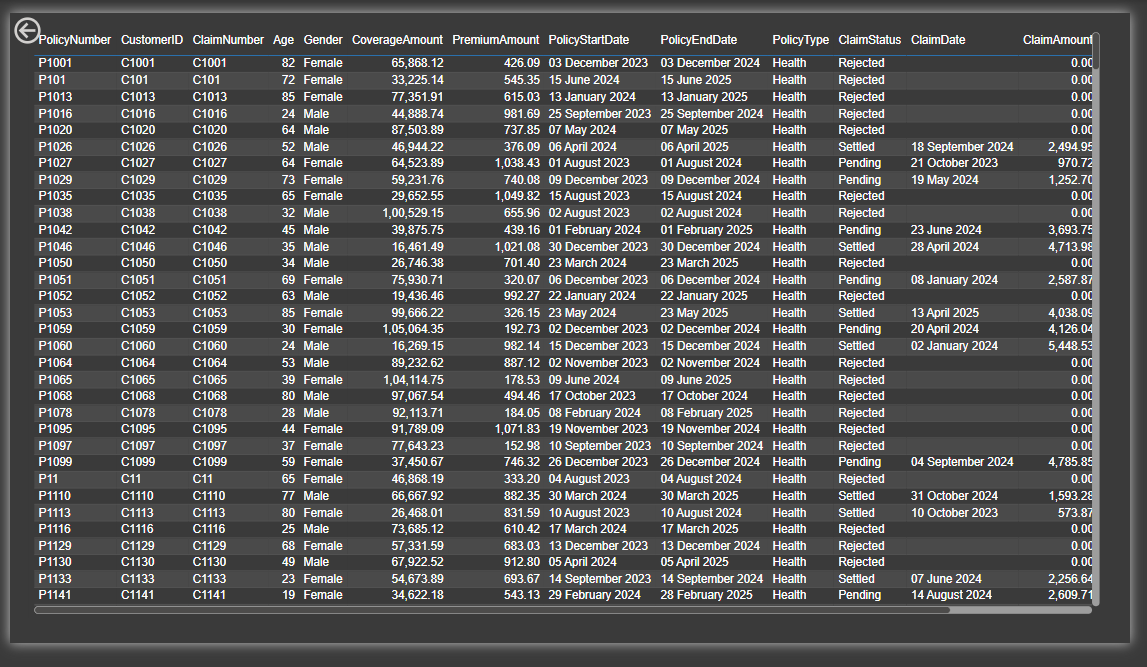

This screenshot's page, from the dashboard's own definition file:
{"tool":"powerbi","page":{"name":"Page 2","canvas":[1280,720],"ordinal":1},"visuals":[{"type":"tableEx","fields":{"Values":["InsuranceData.PolicyNumber","InsuranceData.CustomerID","InsuranceData.ClaimNumber","InsuranceData.Age","InsuranceData.Gender","InsuranceData.CoverageAmount","InsuranceData.PremiumAmount","InsuranceData.PolicyStartDate","InsuranceData.PolicyEndDate","InsuranceData.PolicyType","InsuranceData.ClaimStatus","InsuranceData.ClaimDate"]},"box":[21.7,16.9,1229.4,674.4],"z":0},{"type":"actionButton","box":[0,0,100,40],"z":1}]}

Visuals, with their boxes on the page's 1280x720 design canvas (x1, y1, x2, y2). These are canvas units, not pixel positions in the 1147x667 screenshot, which may show the page scaled, cropped or inside an application window:
tableEx - InsuranceData.PolicyNumber x InsuranceData.CustomerID: 22, 17, 1251, 691
actionButton: 0, 0, 100, 40
